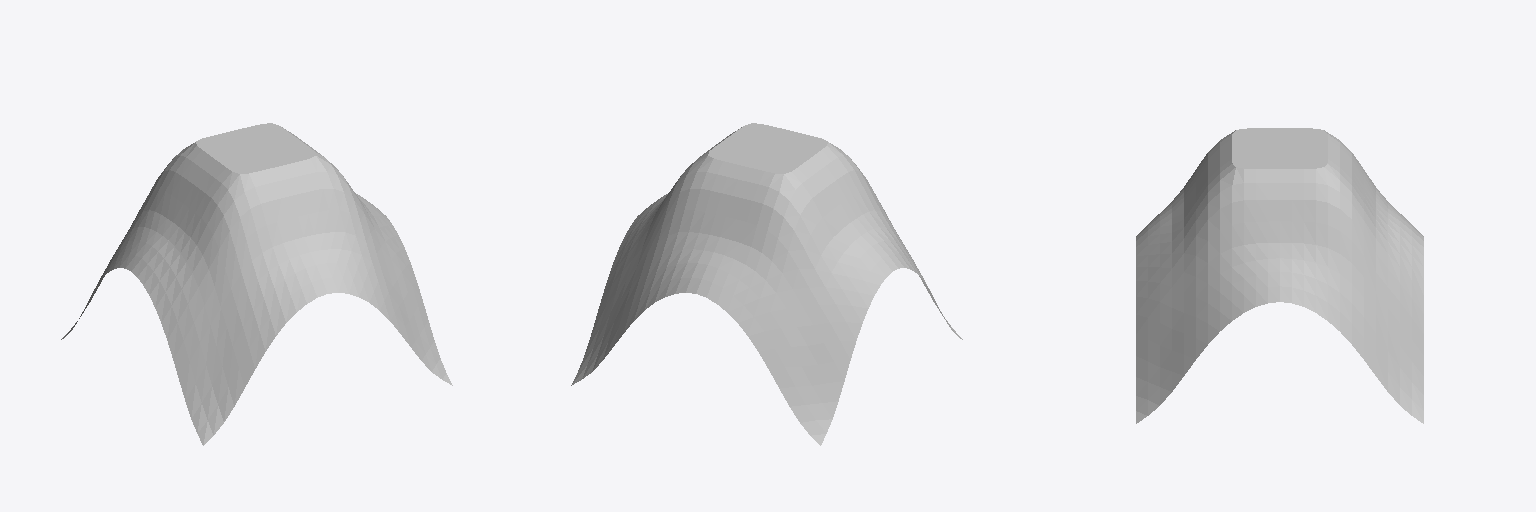
Rendered from pavilion.obj.
The picture shows the model from 3 angles: view 1: azimuth 30°, elevation 25°; view 2: azimuth 150°, elevation 25°; view 3: azimuth 270°, elevation 25°; orthographic projection.
Parts seen in each view (by area): view 1: Plane; view 2: Plane; view 3: Plane.
Boxes of the visible parts, box(x1,y1,x2,y2) form: Plane: box(61, 123, 452, 445); Plane: box(571, 123, 962, 445); Plane: box(1136, 128, 1423, 423).
Bounding box in the file's own units: 3.18 × 2.62 × 3.18.